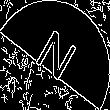N_SW: (29, 23, 81, 87)
